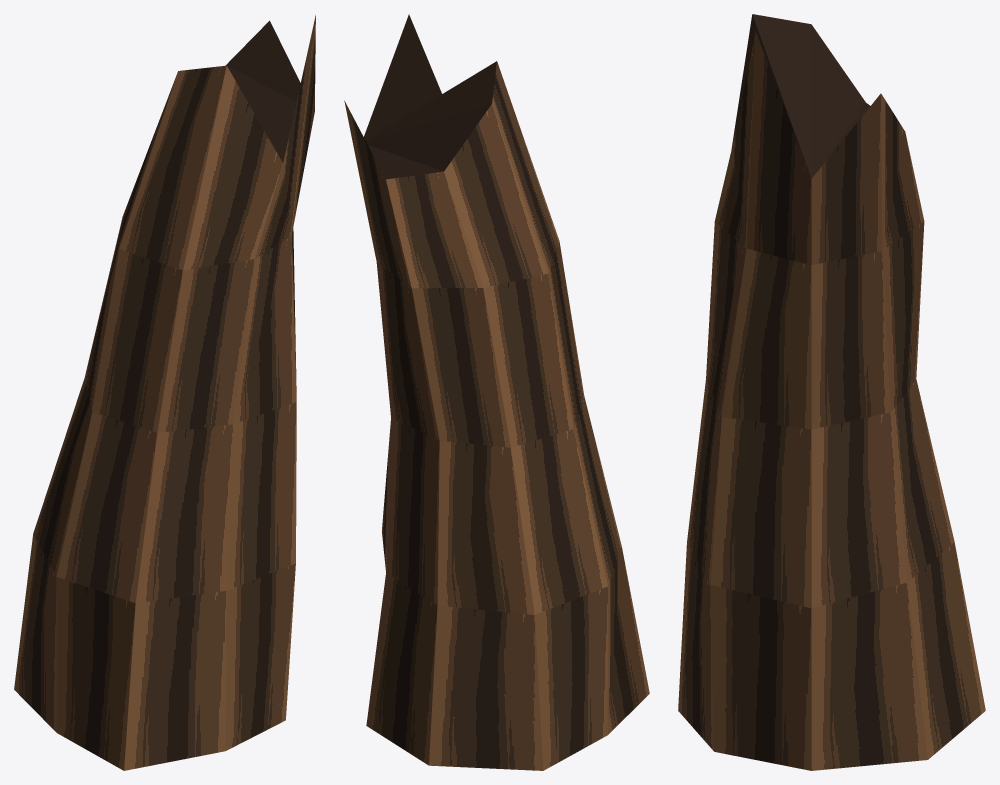
Rendered from PAN-01_Tocon_medio.gltf.
3 views of the same model, side by side, from view 1: azimuth 30°, elevation 25°; view 2: azimuth 150°, elevation 25°; view 3: azimuth 270°, elevation 25° (orthographic). The views are drawn at different scales.
Visible parts, largest first — view 1: PAN-01_Tocon_medio-col; view 2: PAN-01_Tocon_medio-col; view 3: PAN-01_Tocon_medio-col.
Part boxes in pixels (x1=…): PAN-01_Tocon_medio-col: x1=14, y1=15, x2=315, y2=770; PAN-01_Tocon_medio-col: x1=344, y1=14, x2=649, y2=770; PAN-01_Tocon_medio-col: x1=678, y1=14, x2=985, y2=770.
Size of the model in its own units: 0.9734 by 2.45 by 0.9154.
1 material, 1 textured.
